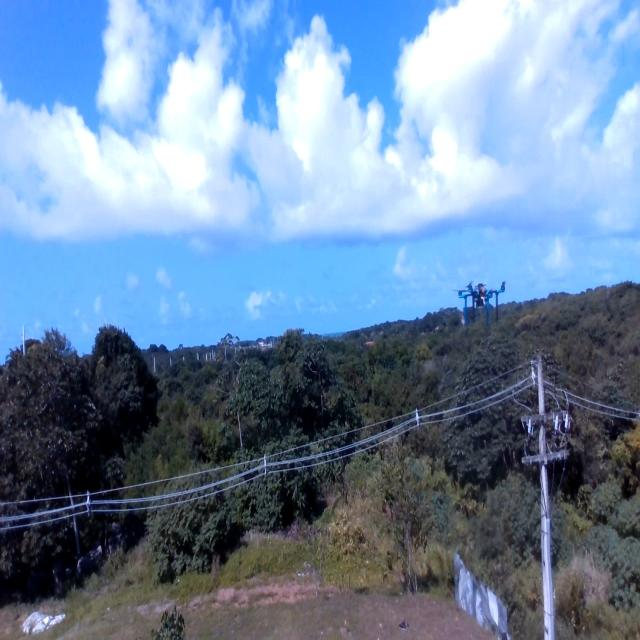-uav-: (444, 256, 508, 350)
